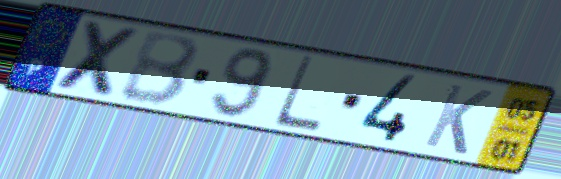4: (354, 71, 419, 148)
9: (210, 46, 275, 121)
B: (115, 30, 203, 109)
K: (420, 80, 497, 158)
L: (268, 53, 324, 135)
X: (50, 17, 146, 103)
